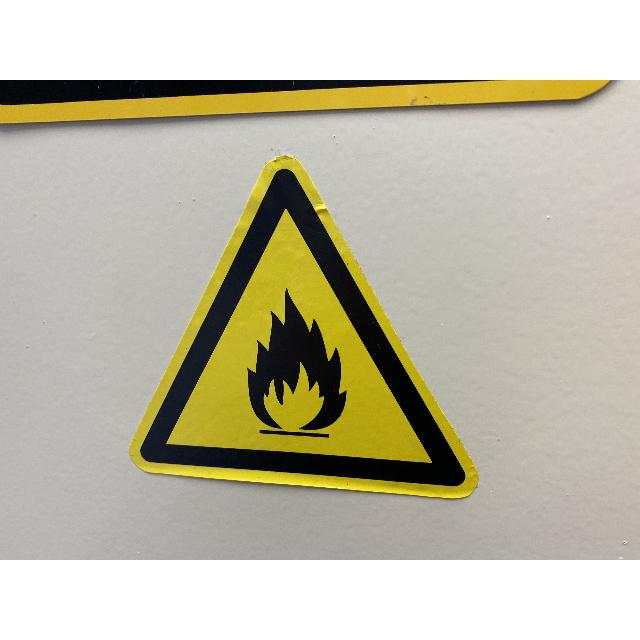fire hazard: (245, 286, 352, 440)
